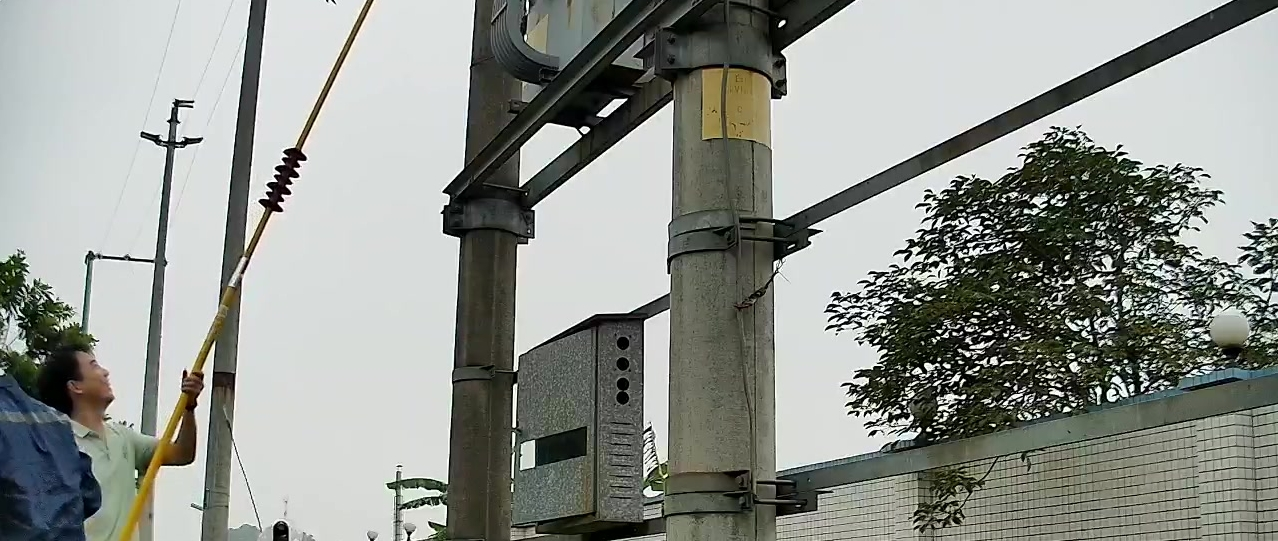安全帽、工作服均未穿戴的工作人员: (35, 343, 206, 540)
